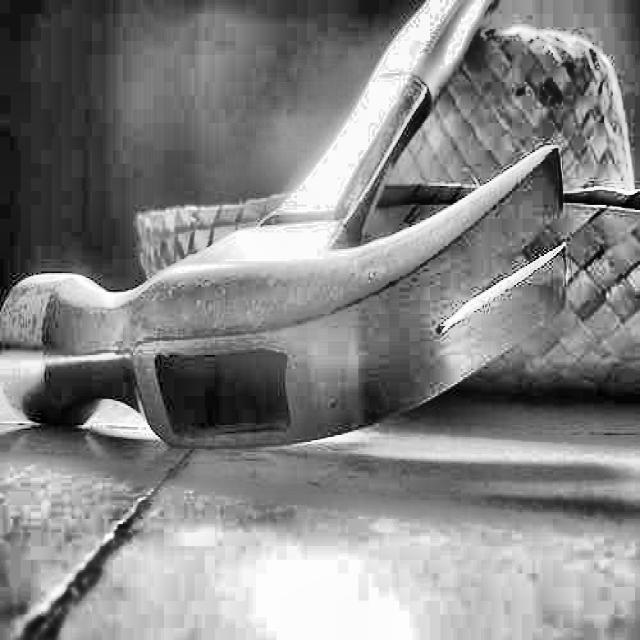hammer: (0, 0, 568, 456)
